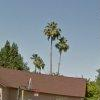Palm tree: (35, 11, 80, 81)
